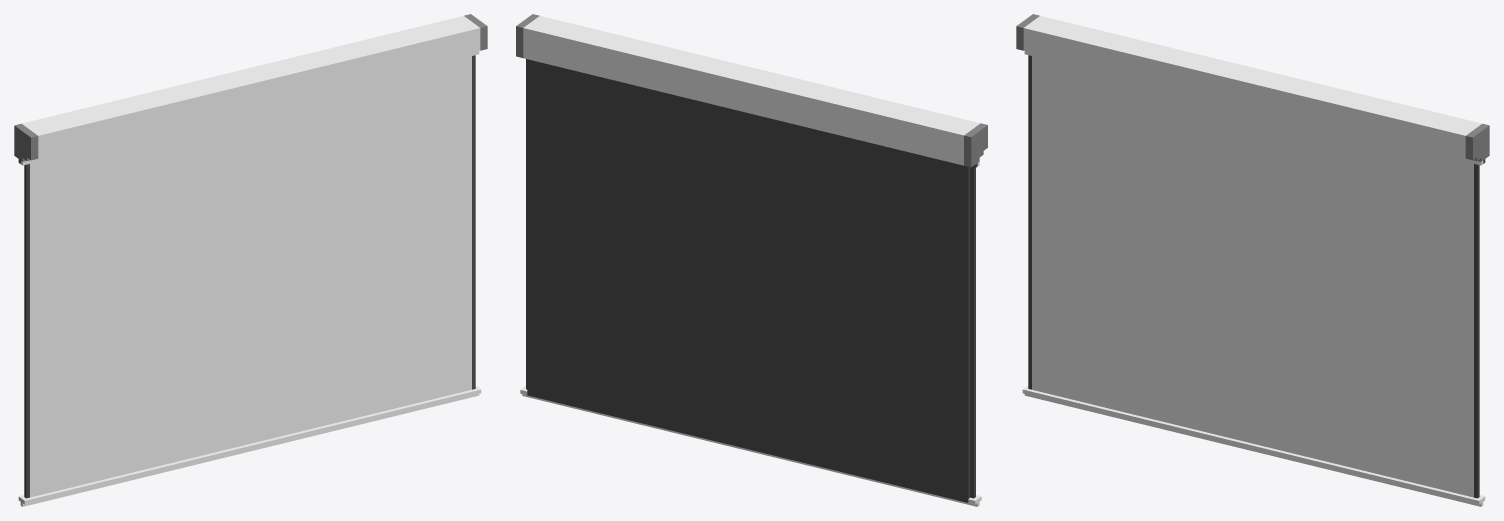
The model's file is Projector2.fbx.
3 renders of one model, left to right at view 1: azimuth 30°, elevation 25°; view 2: azimuth 150°, elevation 25°; view 3: azimuth 330°, elevation 25°, orthographic.
Visible parts, largest first — view 1: Projector2; view 2: Projector2; view 3: Projector2.
Boxes of the visible parts, bbox=[...] form: Projector2: bbox=[14, 14, 487, 506]; Projector2: bbox=[516, 14, 987, 506]; Projector2: bbox=[1016, 14, 1489, 506].
Size of the model in its own units: 12.6 by 9.9 by 0.8.
